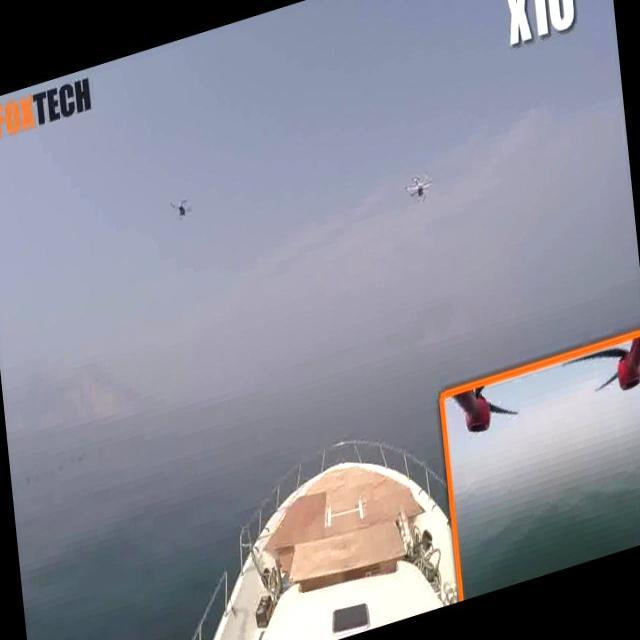drone: (402, 161, 432, 210), (166, 190, 196, 228)
